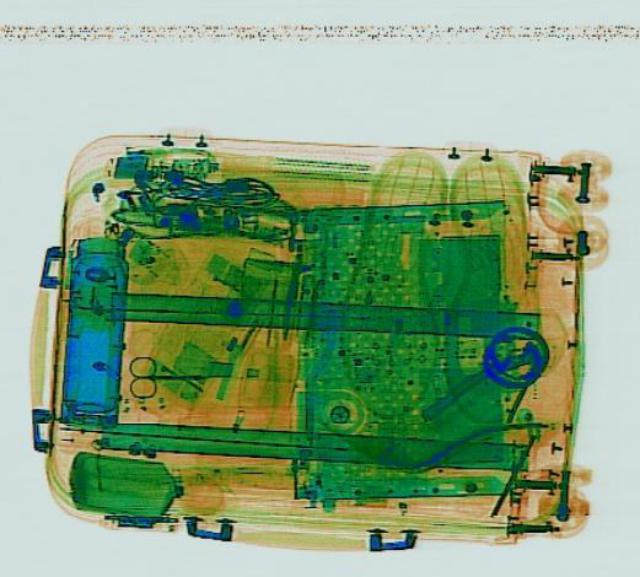Scissors: (125, 352, 198, 395)
